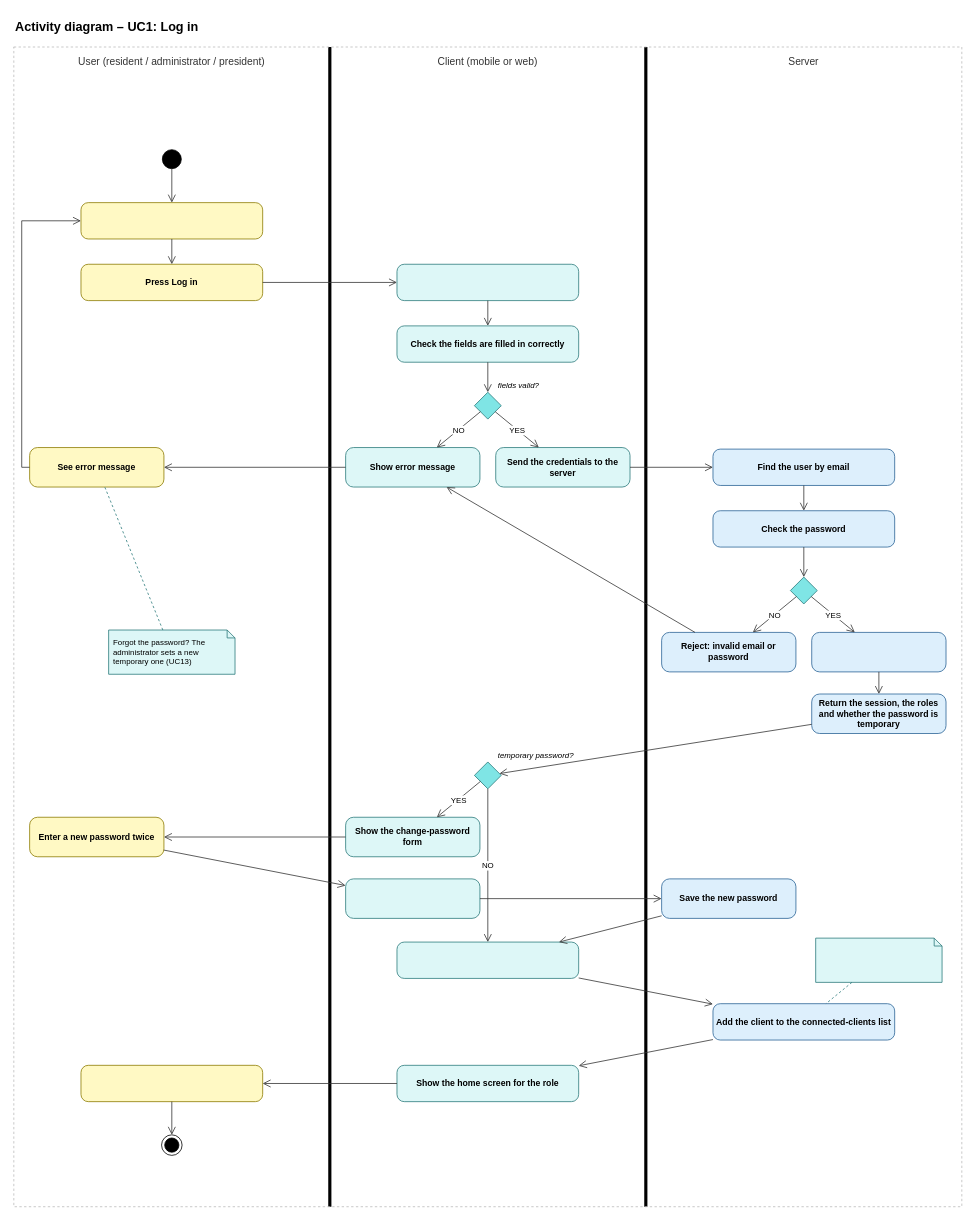
The diagram is 976 pixels wide and 1221 high, and some of its shapes have lost their labels. The shapes that lost their labels are listed below. From the top down, each one's centre as x and y in pixels, then its label:
At [171,220]: "Enter email and password".
At [487,282]: "Read email and password".
At [803,590]: "credentials correct?".
At [878,652]: "Start a session for the user".
At [412,898]: "Send the new password".
At [487,959]: "Keep the session, connect for live updates".
At [878,959]: "The connected-clients list is used by UC24".
At [171,1083]: "See home screen".
